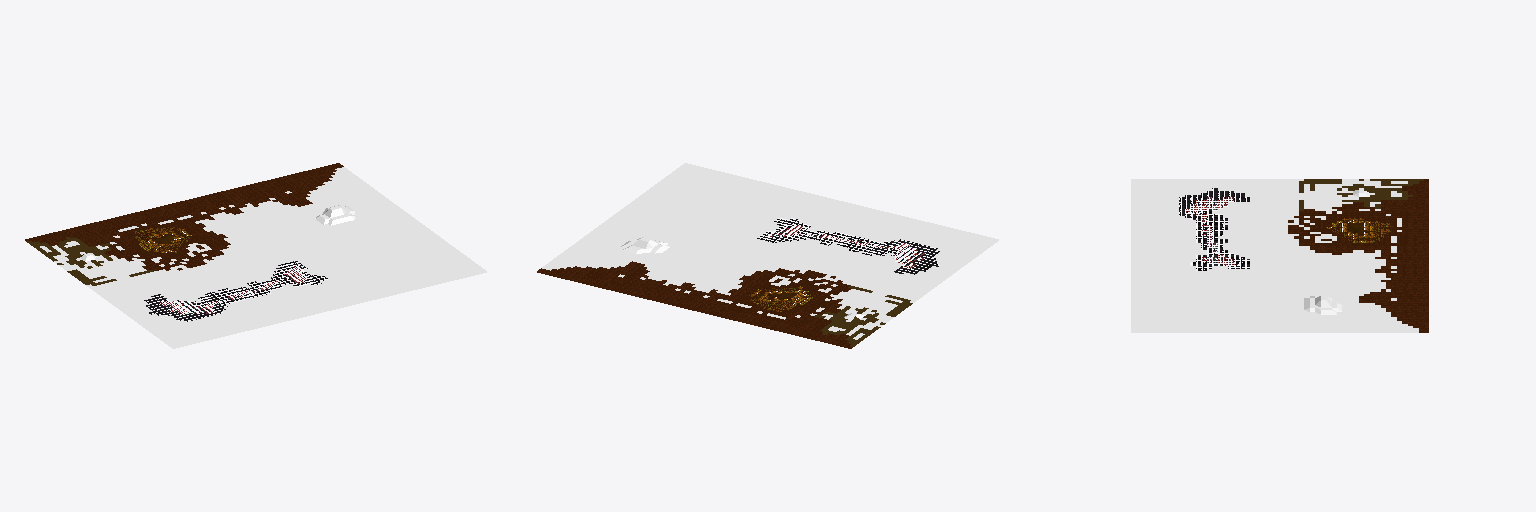
3 views of the same model, side by side, from view 1: azimuth 30°, elevation 25°; view 2: azimuth 150°, elevation 25°; view 3: azimuth 270°, elevation 25° (orthographic).
Visible parts, largest first — view 1: Default; view 2: Default; view 3: Default.
Part boxes in pixels (left/top/right/bottom): Default: left=25, top=163, right=486, bottom=348; Default: left=537, top=163, right=998, bottom=348; Default: left=1131, top=179, right=1428, bottom=332.
Size of the model in its own units: 67 by 3 by 55.
Materials: 8 (3 with a texture image).